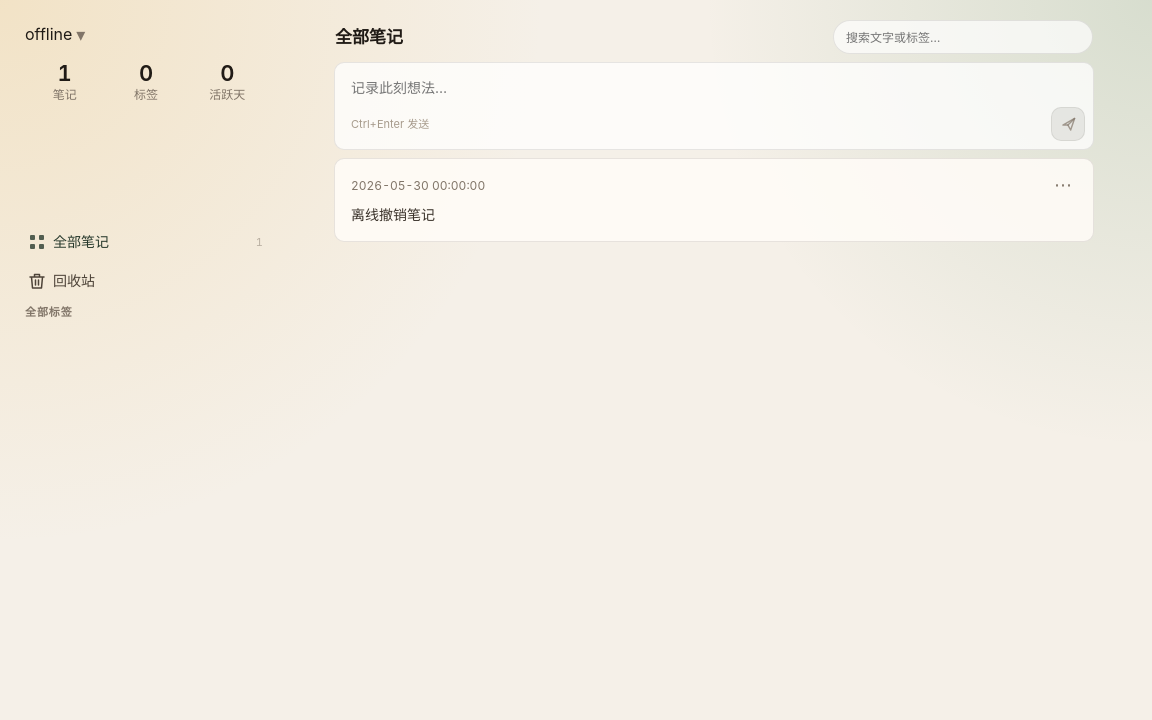
Test: App › 离线删除后撤销会取消待同步删除，不追加恢复操作
The width and height of the screenshot is (1152, 720).
Check: the text "离线撤销笔记" is shown, box [351,206,435,223]
Click the button named "更多操作". click: click(1063, 185)
box: [1049,173,1077,197]
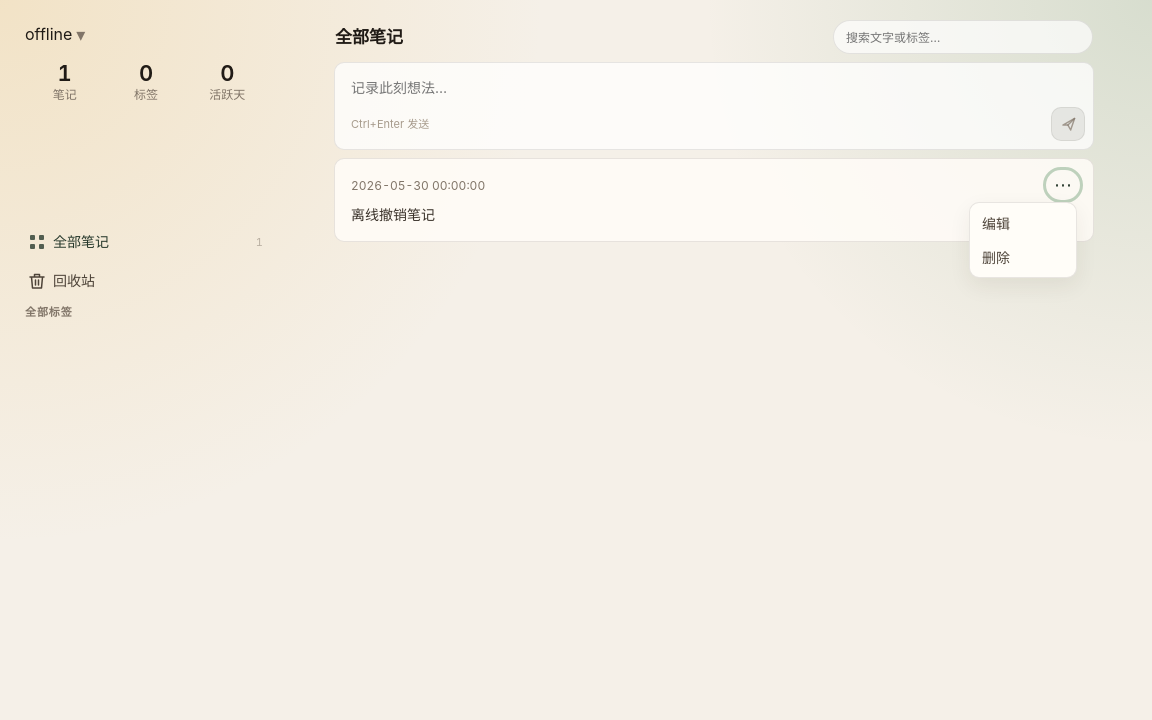
Click the button "删除". click: click(1023, 257)
box: [974,241,1072,273]
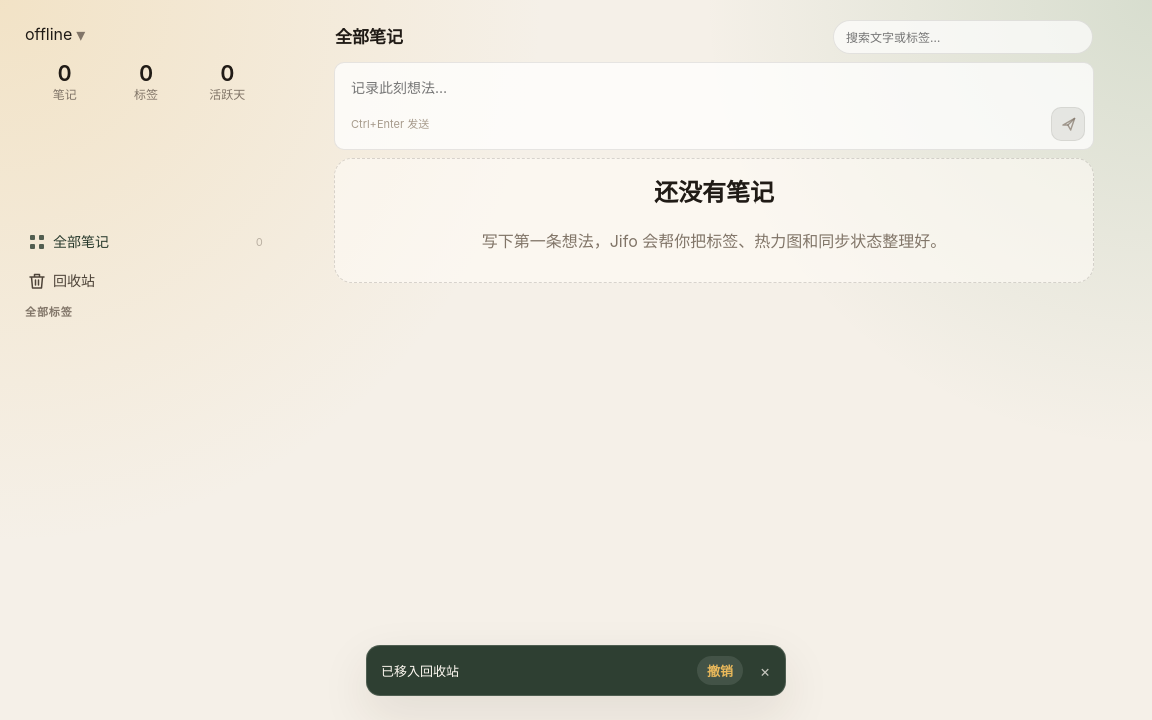
Check: the text "已移入回收站" is shown, box [381,663,459,679]
Click the button "撤销". click: click(720, 670)
box: [697,656,743,685]
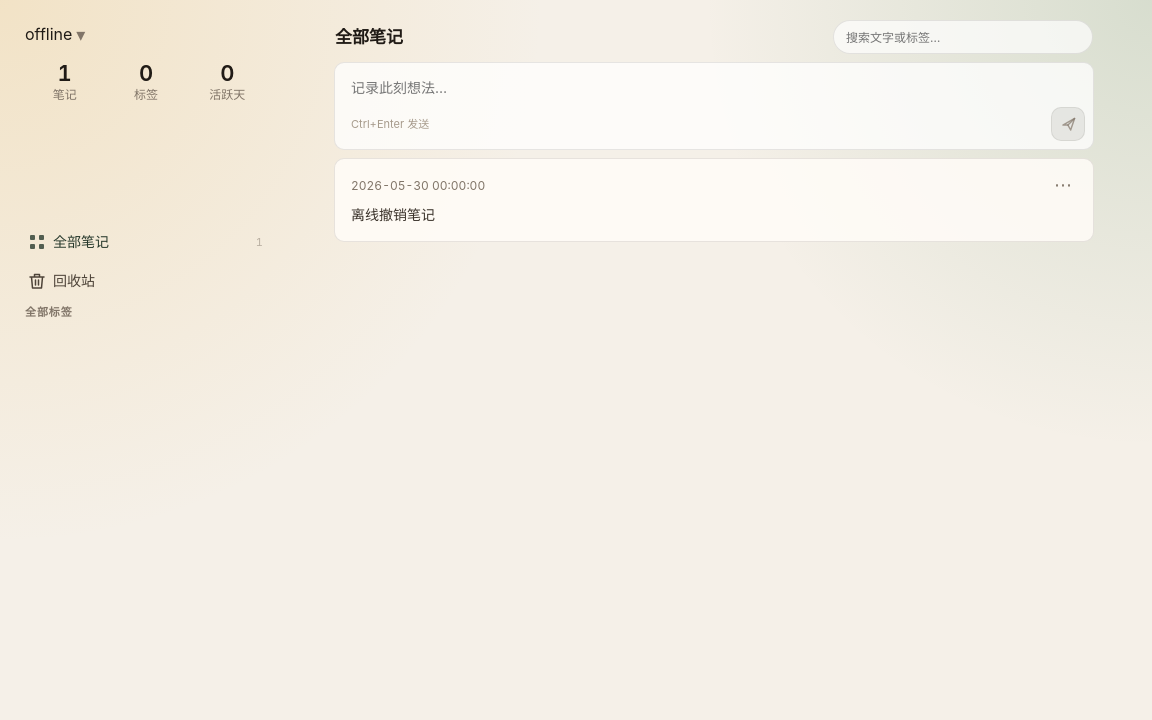
Check: the text "离线撤销笔记" is shown, box [351,206,435,223]
